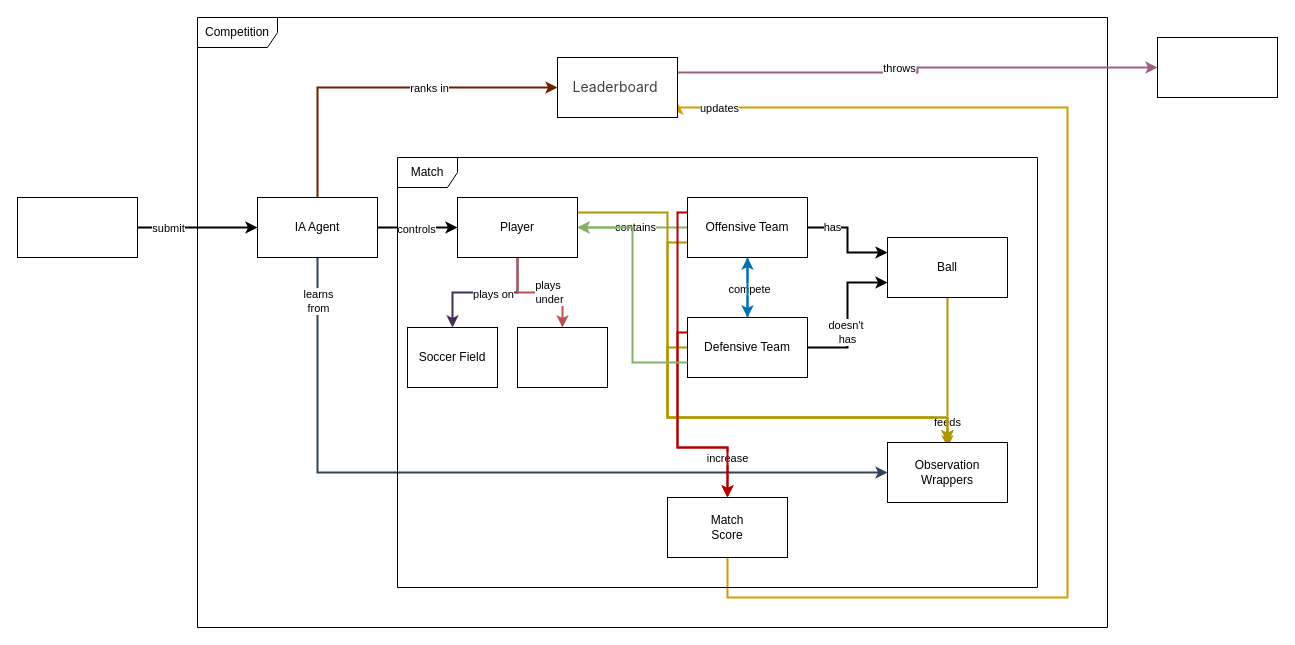
This 1295x645 diagram has some shape labels left out. The shapes that lost their labels are listed below. From the top down, each one's centre as x and y in pixels, then its label:
point 1217,67: Winner
point 77,227: Competitors
point 562,357: Match Rules
